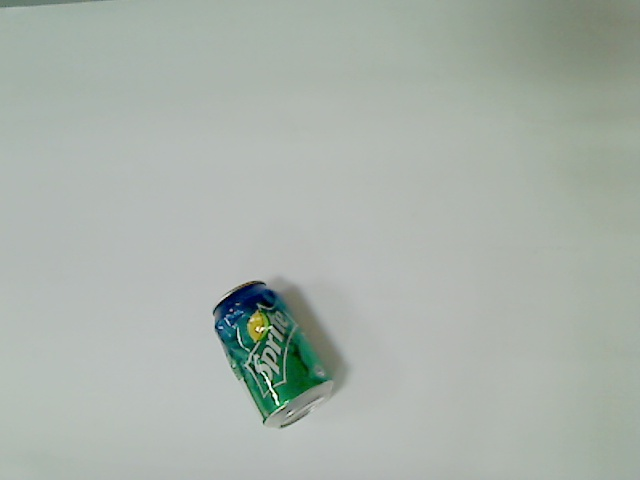can: (209, 278, 339, 431)
